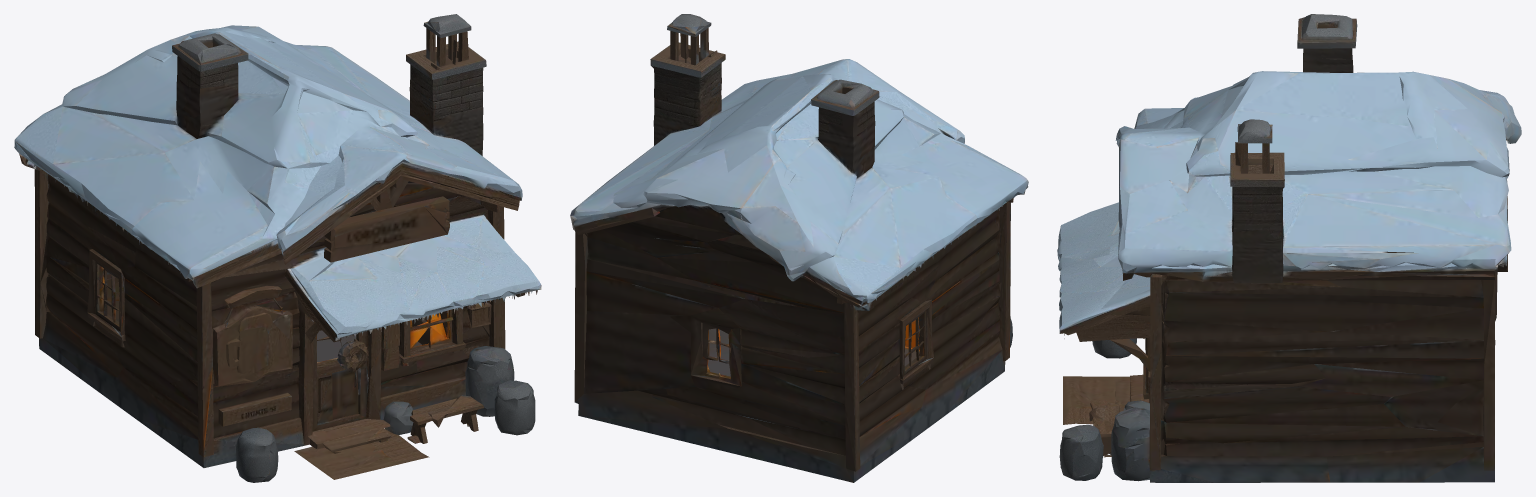
The model's file is bar.glb.
The picture shows the model from 3 angles, left to right: view 1: azimuth 30°, elevation 25°; view 2: azimuth 150°, elevation 25°; view 3: azimuth 270°, elevation 25°; orthographic projection. The views are drawn at different scales.
Bounding box in the file's own units: 1.56 × 1.52 × 1.77.
1 material, 1 textured.
